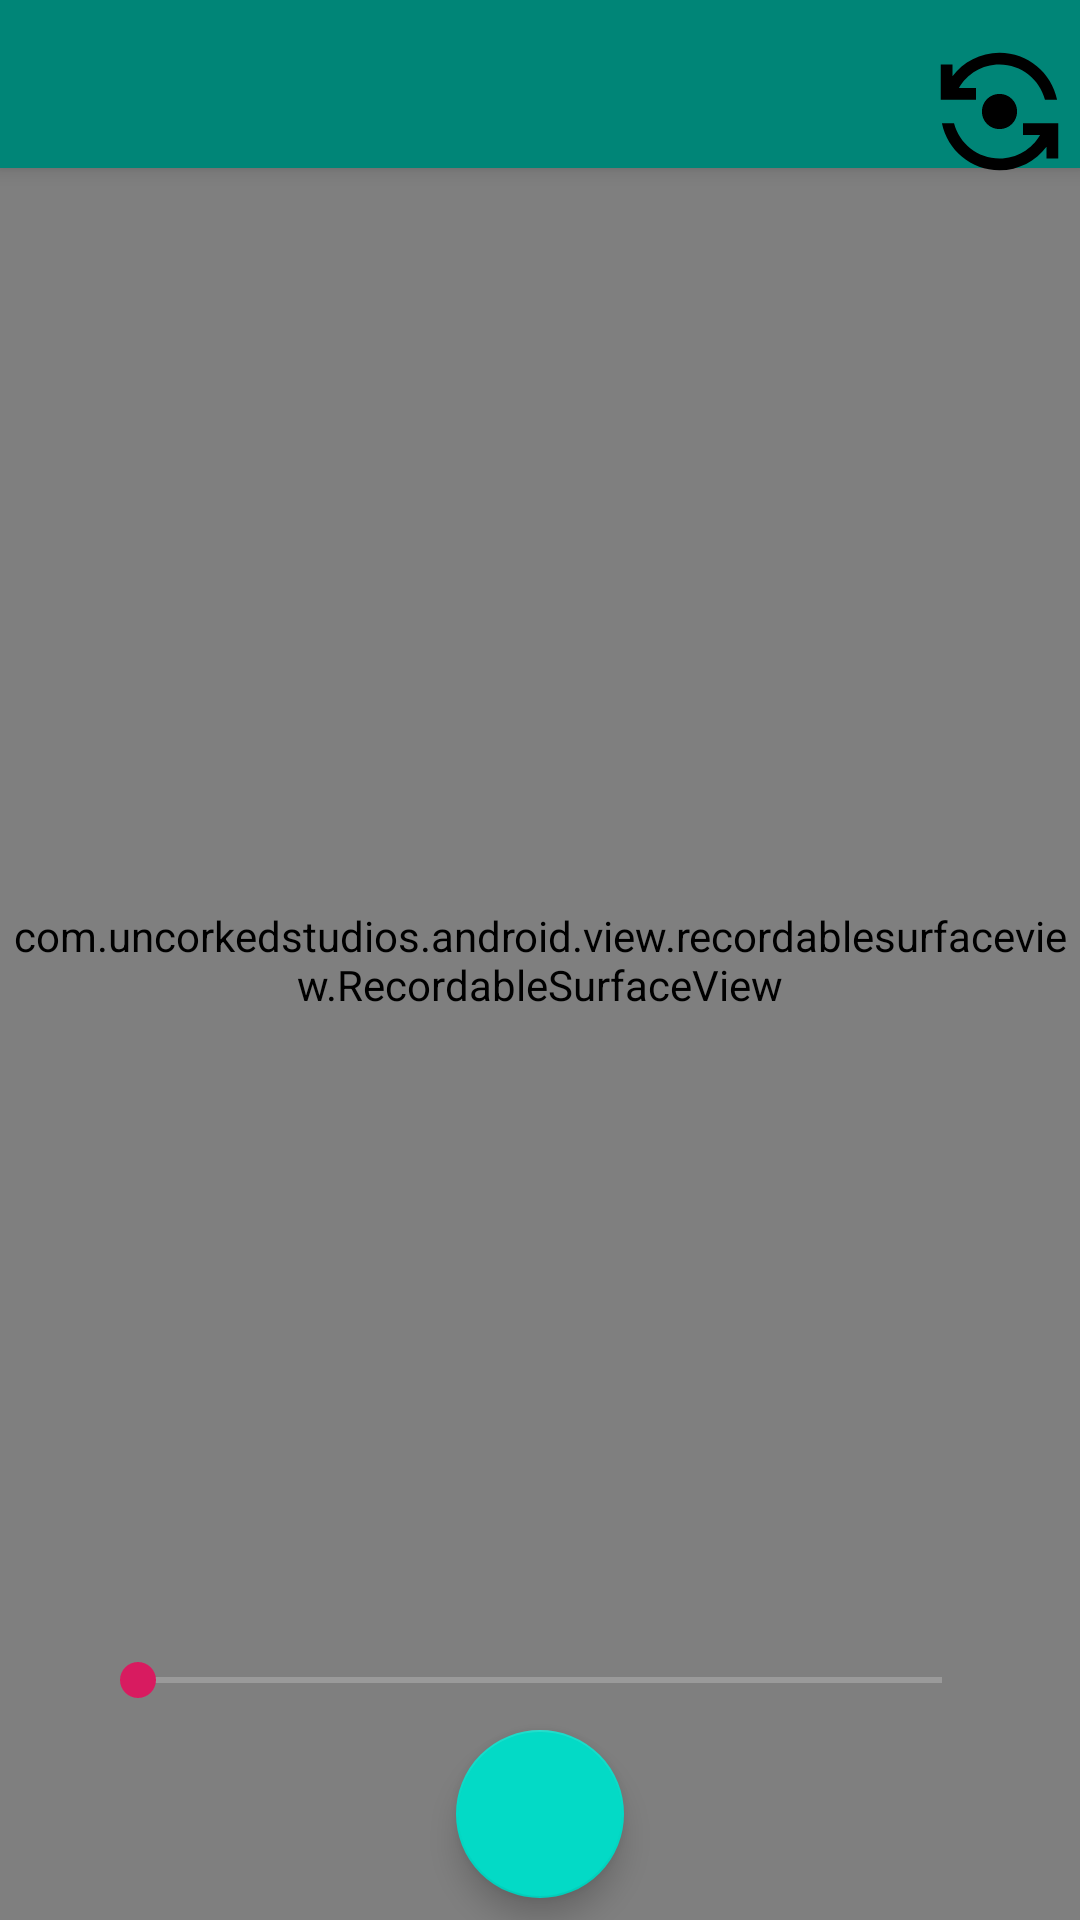

Icon click points for this 1080 × 1920 phone screenshot, format point (x, y):
flip camera android: point (997, 117)
